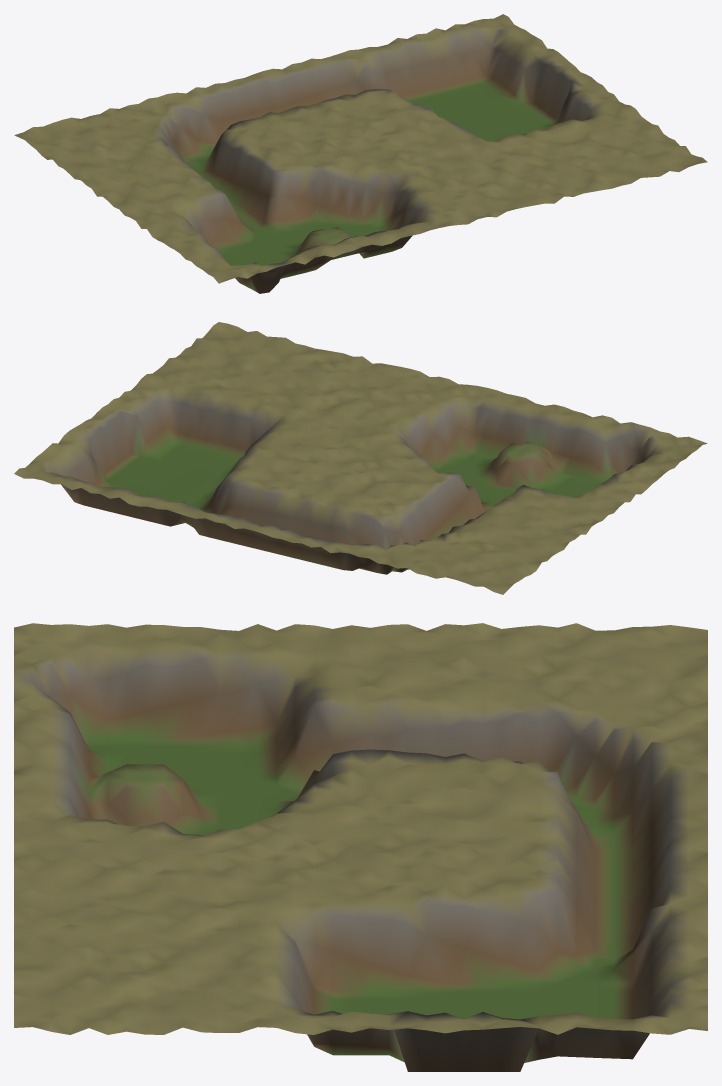
File: canyon_terrain.obj
3 renders of one model, top to bottom at view 1: azimuth 30°, elevation 25°; view 2: azimuth 150°, elevation 25°; view 3: azimuth 270°, elevation 25°, orthographic. The views are drawn at different scales.
Size of the model in its own units: 163 by 12.95 by 118.
